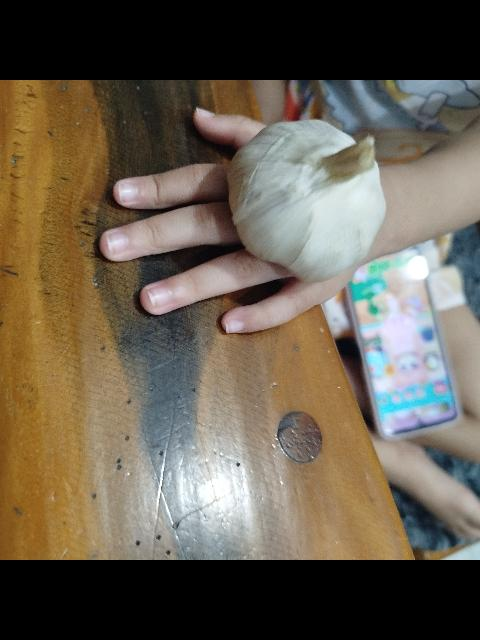garlic: (218, 100, 406, 318)
